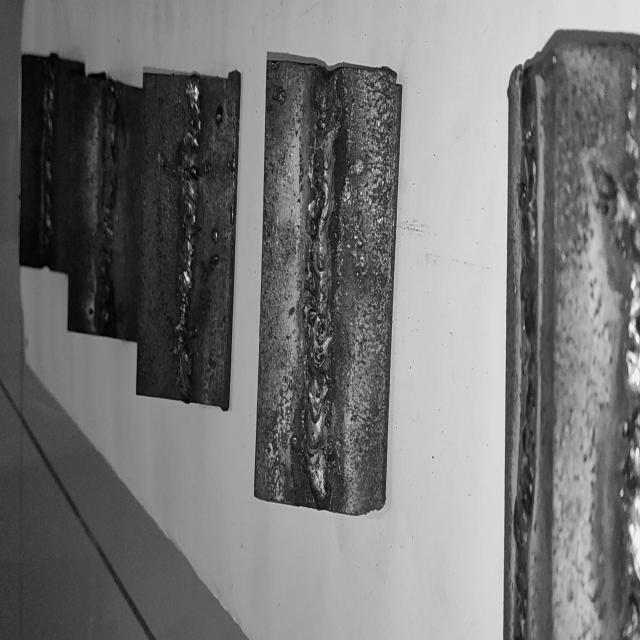Defect: (102, 76, 118, 331), (175, 76, 204, 216)
Welding Line: (302, 76, 344, 494), (174, 75, 202, 394), (100, 81, 114, 334), (42, 61, 56, 265)
Workpiece: (501, 27, 640, 640), (252, 48, 407, 514), (136, 61, 239, 422), (63, 73, 144, 341), (18, 54, 85, 272)
